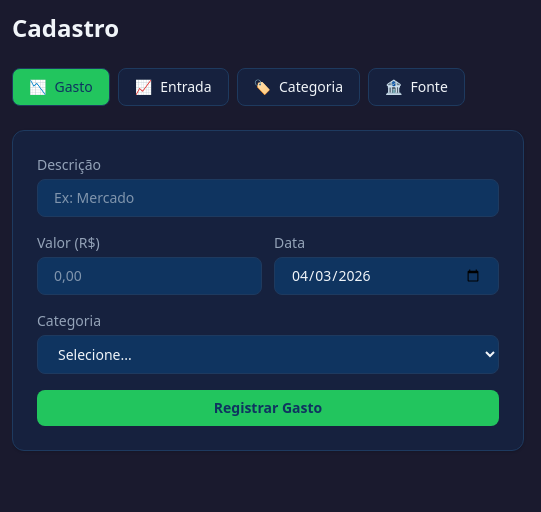
PaginaCadastro › registra um gasto com sucesso
The width and height of the screenshot is (541, 512).
In the field labelled "Descrição": [268, 198] box left=37, top=179, right=499, bottom=217, type "Mercado"
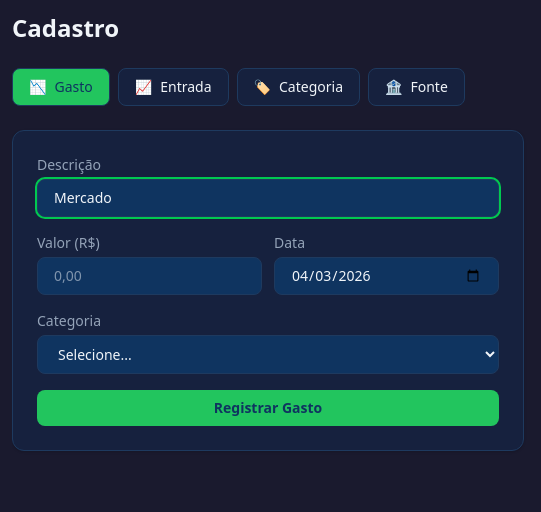
In the number field labelled "Valor (R$)": [150, 276] box left=37, top=257, right=262, bottom=295, type "50"
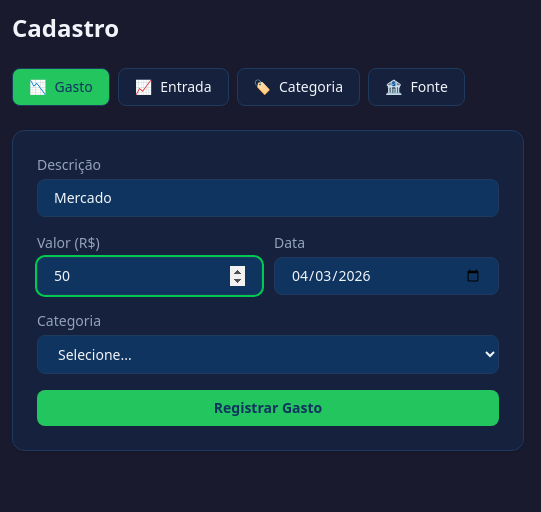
Select "Alimentação" in the dropdown labelled "Categoria": [268, 354] box left=37, top=335, right=499, bottom=374
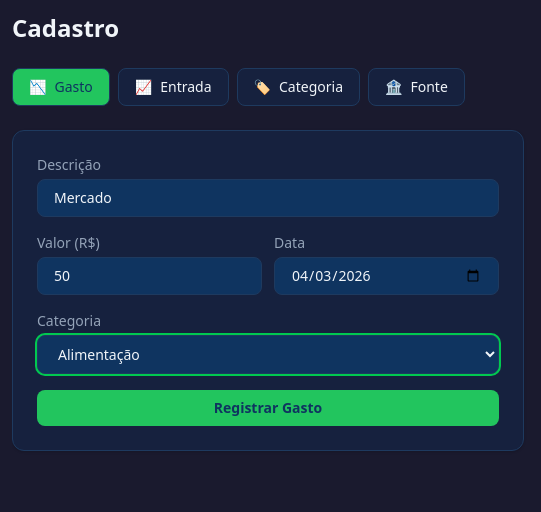
Click the button "Registrar Gasto": [268, 408] box left=37, top=390, right=499, bottom=426
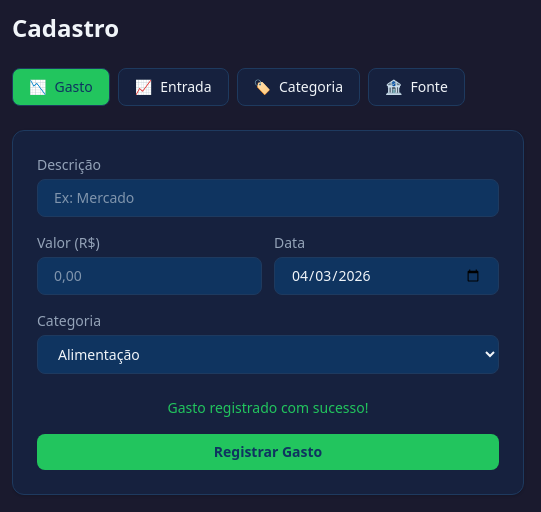
Result: the text "Gasto registrado com sucesso!" is shown at left=168, top=398, right=368, bottom=417
